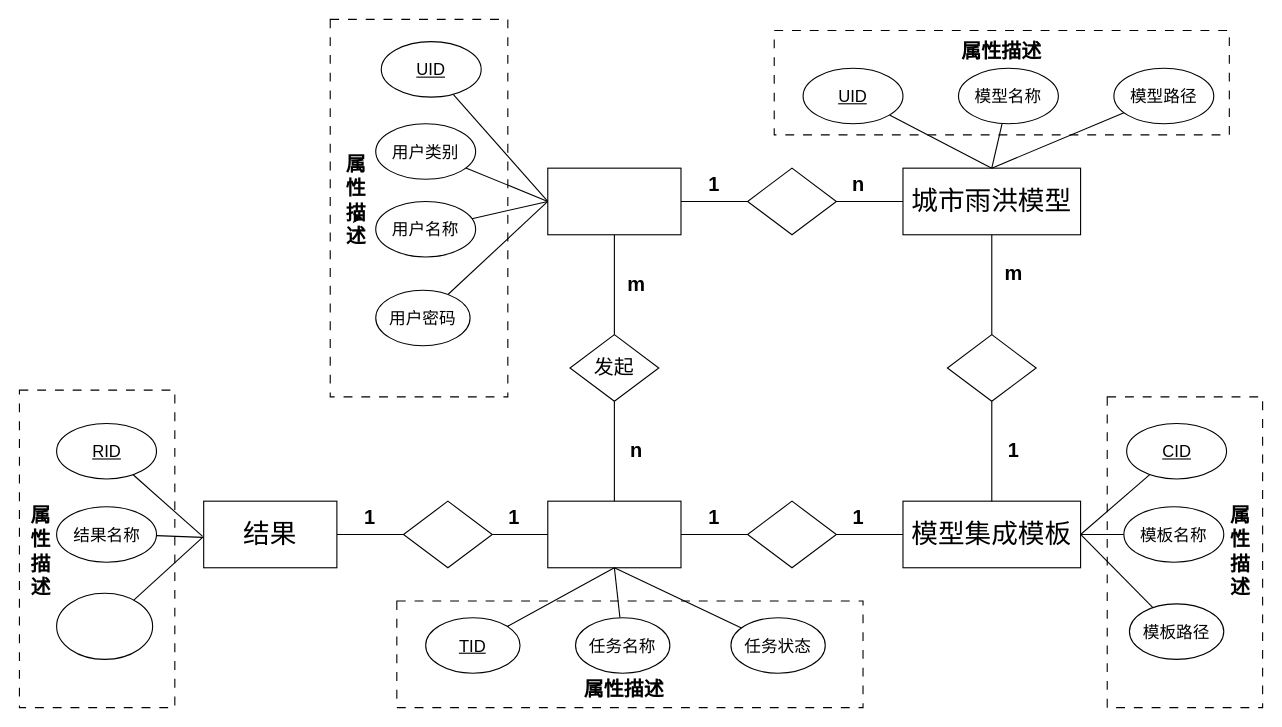
This 1282x727 diagram has some shape labels left out. The centre of each missing label's shape, as x and y in pixels:
任务: point (614, 534)
创建: point (791, 534)
执行: point (447, 534)
注册: point (791, 201)
用户: point (614, 201)
组成: point (991, 367)
结果 可视化方式: point (104, 625)
